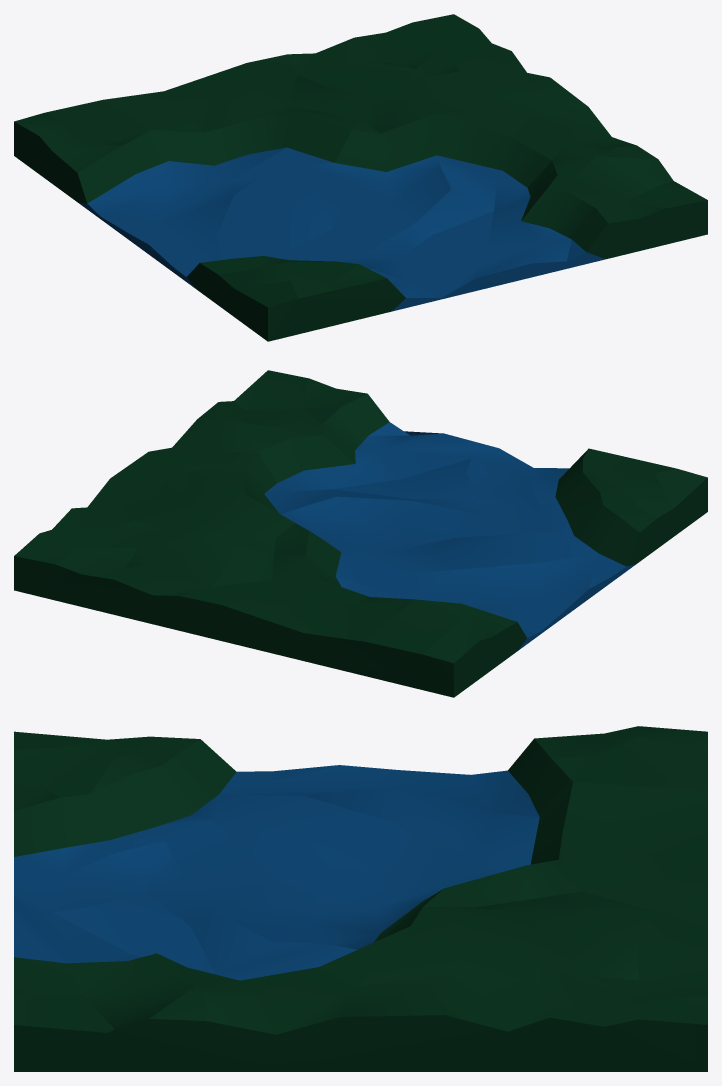
Rendered from Water_Turn_RU.fbx.
3 renders of one model, top to bottom at view 1: azimuth 30°, elevation 25°; view 2: azimuth 150°, elevation 25°; view 3: azimuth 270°, elevation 25°, orthographic. The views are drawn at different scales.
Parts seen in each view (by area): view 1: Water_Turn_RU; view 2: Water_Turn_RU; view 3: Water_Turn_RU.
Boxes of the visible parts, box(x1,y1,x2,y2) form: Water_Turn_RU: box(14, 14, 707, 341); Water_Turn_RU: box(14, 370, 707, 697); Water_Turn_RU: box(14, 726, 707, 1071).
Bounding box in the file's own units: 147 × 15.12 × 147.
